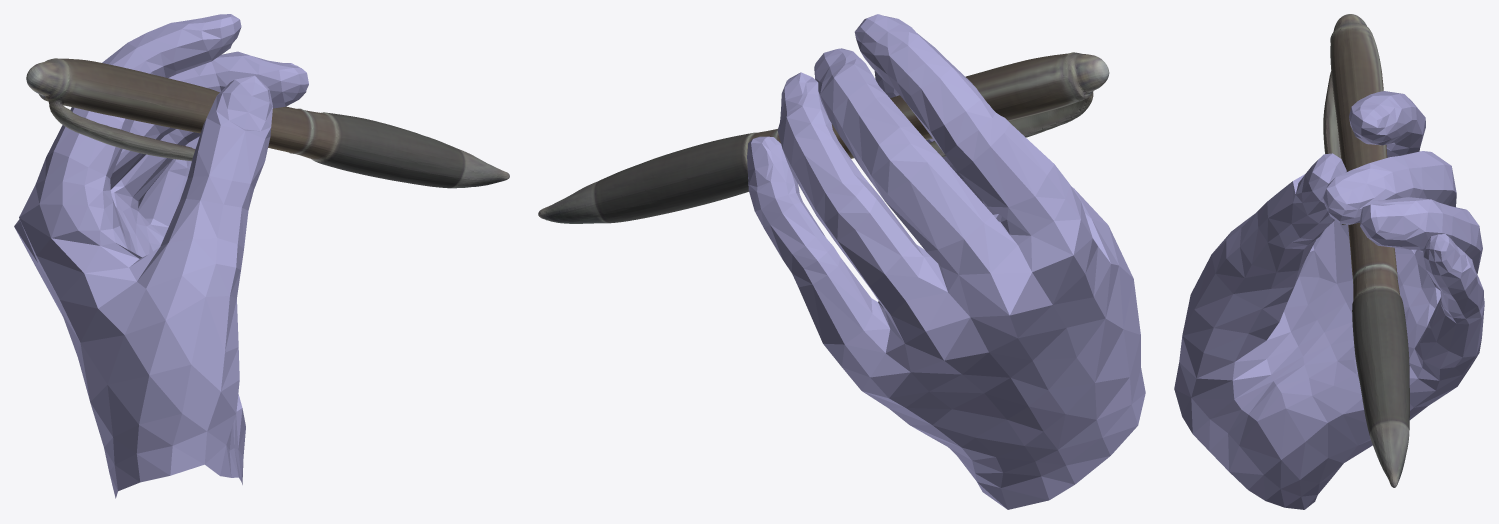
Rendered from frame_0037_source_000037_hand_object.glb.
3 renders of one model, left to right at view 1: azimuth 30°, elevation 25°; view 2: azimuth 150°, elevation 25°; view 3: azimuth 270°, elevation 25°, orthographic. The views are drawn at different scales.
Visible parts, largest first — view 1: world; view 2: world; view 3: world.
Part boxes in pixels (x1,y1,x2,y2): world: (14,14,509,498); world: (538,14,1145,509); world: (1174,14,1484,509).
Size of the model in its own units: 0.175 by 0.1513 by 0.0965.
